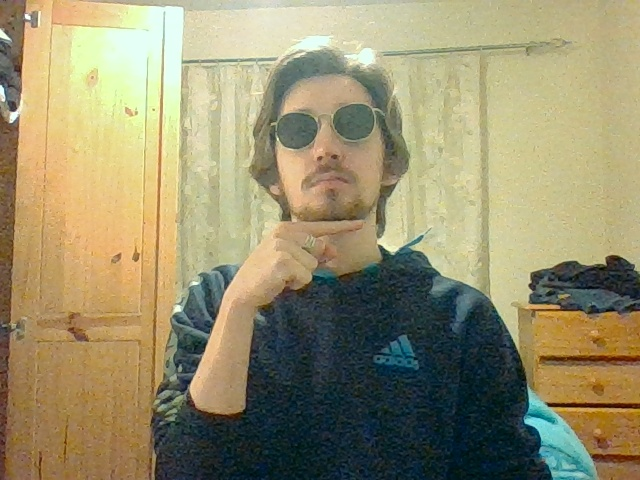son: (260, 219, 364, 291)
